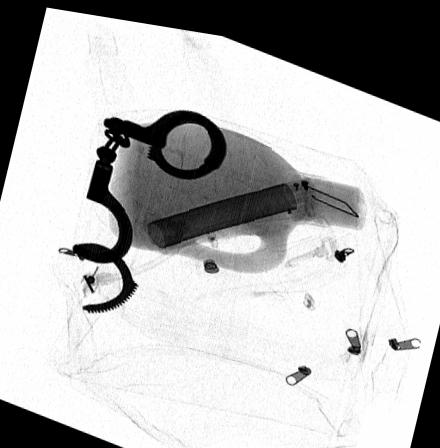HandCuffs: (71, 102, 227, 309)
